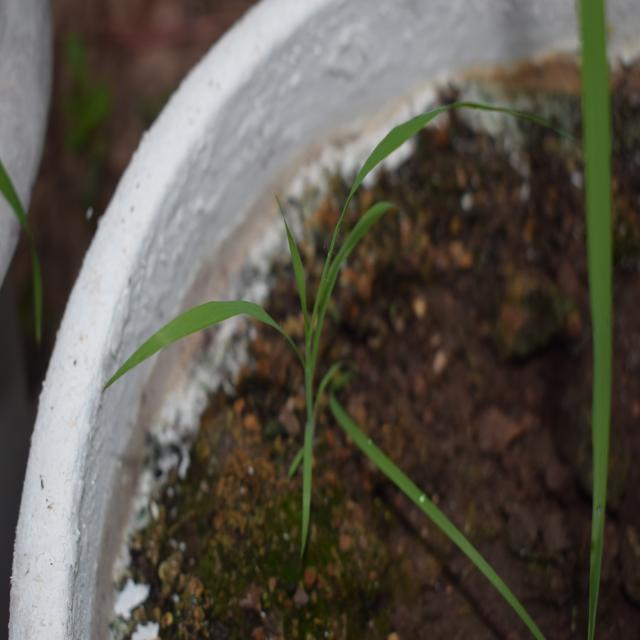barnyard_grass: (111, 100, 458, 448)
